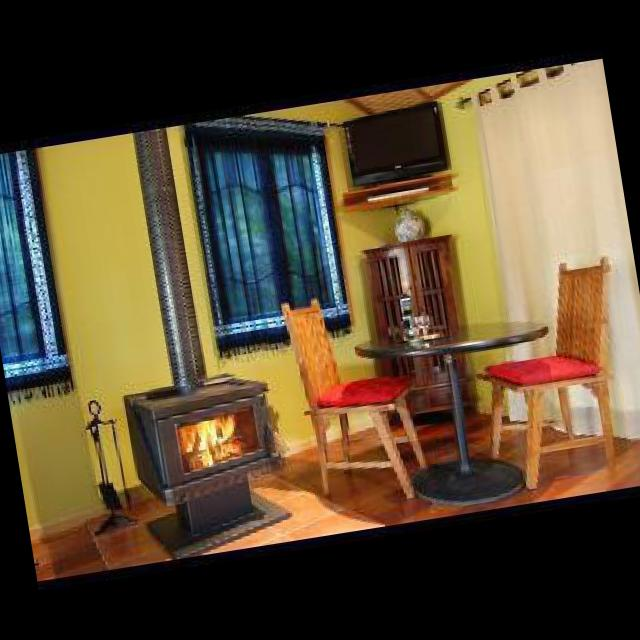Fire: (174, 406, 263, 472)
